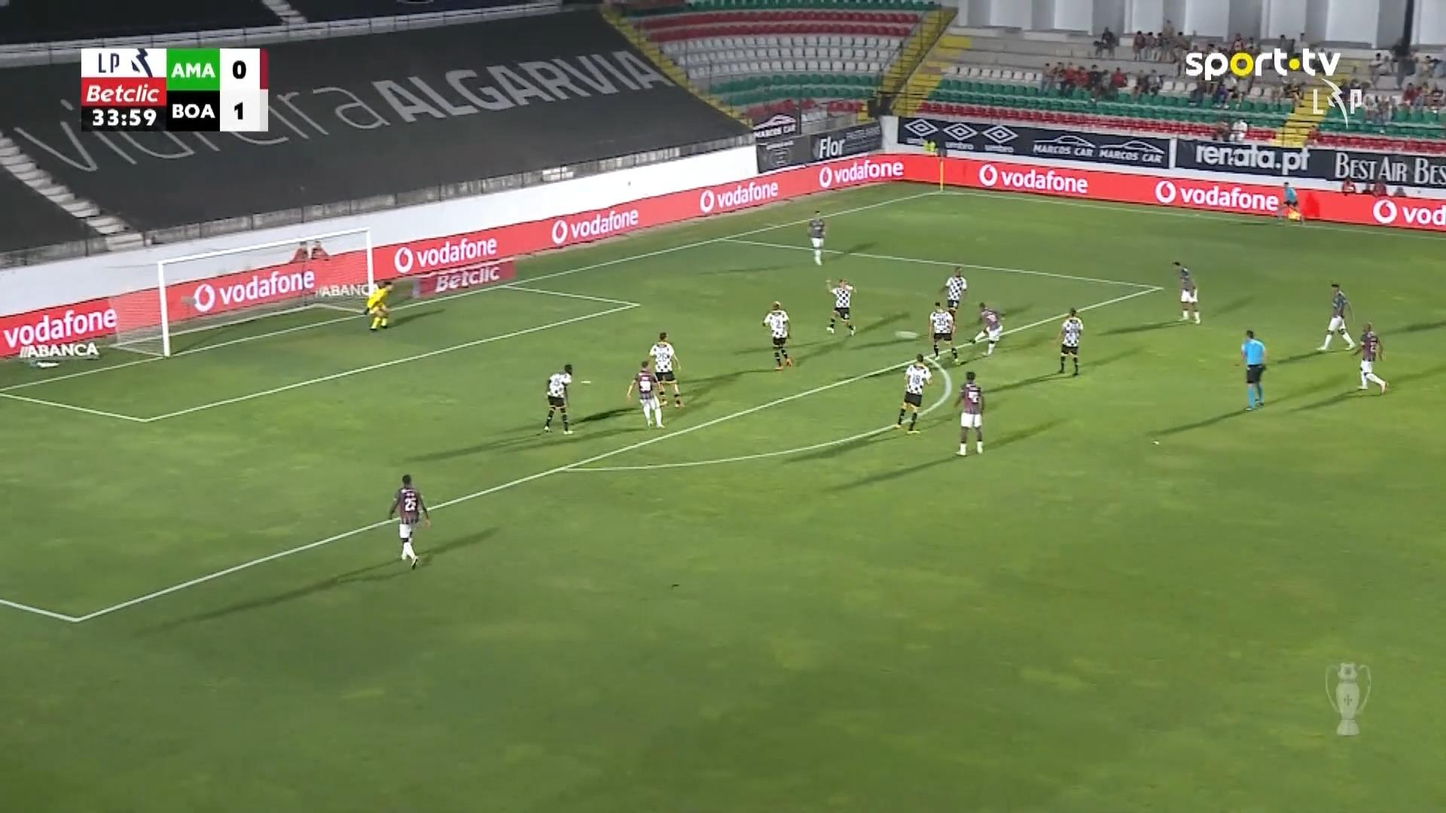goalkeeper: (364, 278, 393, 330)
player: (387, 473, 431, 569), (895, 353, 932, 434), (1316, 282, 1356, 352), (625, 359, 665, 428), (648, 330, 683, 408), (953, 370, 985, 455), (1351, 321, 1387, 394), (541, 362, 573, 435), (761, 300, 792, 370), (1054, 306, 1084, 375), (927, 301, 959, 365), (969, 300, 1005, 356), (825, 276, 856, 336), (1172, 260, 1200, 324), (941, 265, 968, 327), (807, 209, 826, 265)
referee: (1237, 328, 1267, 410), (1280, 180, 1300, 220)
